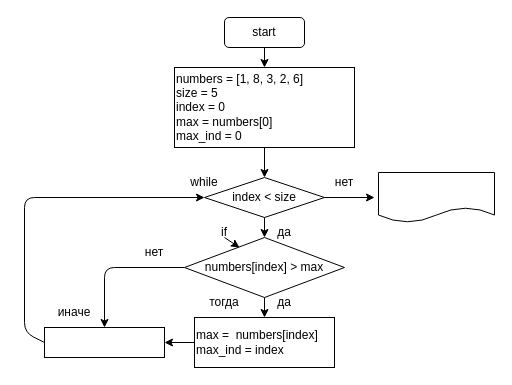
The diagram is 512 pixels wide and 385 high, and some of its shapes have lost their labels. Here are the shapes that lost their labels. From the top down, the centre of each, then its label:
(x=436, y=197): print(max) print(max_ind)
(x=104, y=342): index = index + 1
